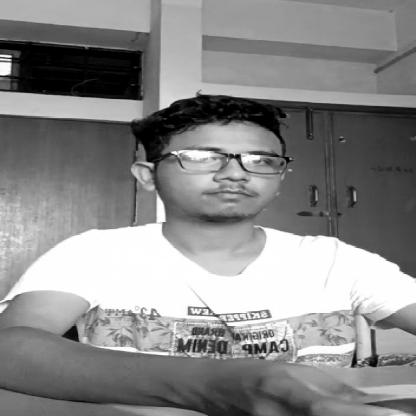Normal: (135, 98, 292, 222)
